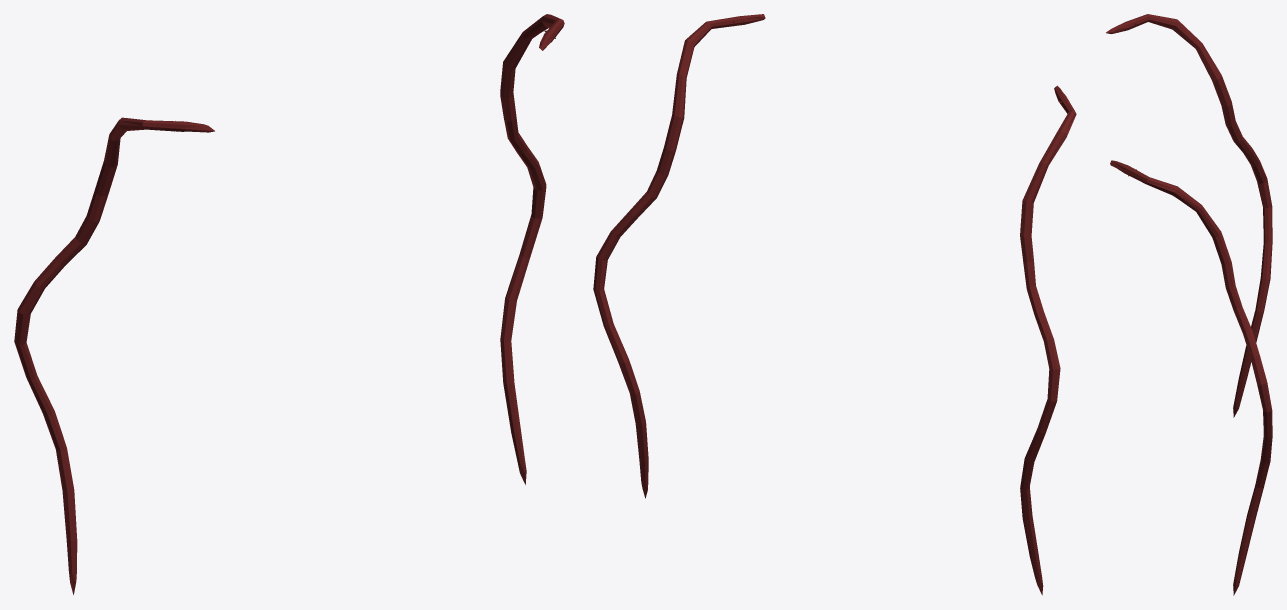
File: Artéria Femoral Profunda.FBX
3 views of the same model, side by side, from view 1: azimuth 30°, elevation 25°; view 2: azimuth 150°, elevation 25°; view 3: azimuth 270°, elevation 25° (orthographic). The views are drawn at different scales.
Parts seen in each view (by area): view 1: CS_Arterie; view 2: CS_Arterie; view 3: CS_Arterie.
Boxes of the visible parts, x1,y1,x2,y2 form: CS_Arterie: [14, 14, 564, 594]; CS_Arterie: [593, 14, 1076, 595]; CS_Arterie: [1106, 14, 1272, 595].
Bounding box in the file's own units: 806 × 748 × 275.
